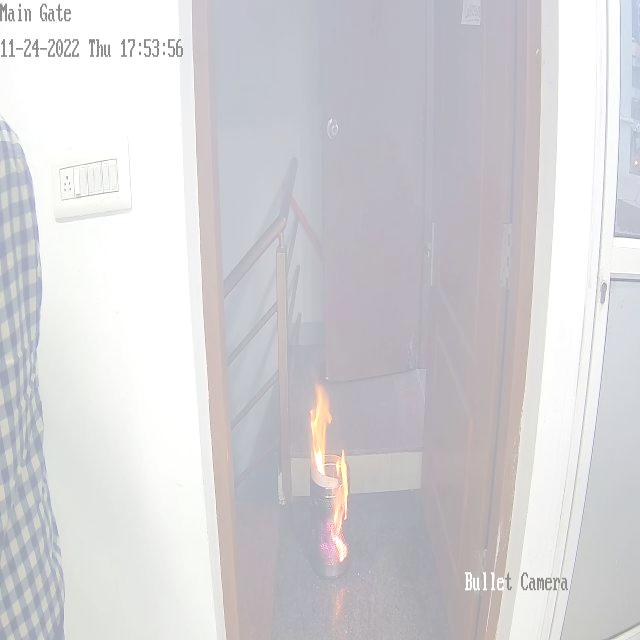fire: (308, 378, 352, 584)
smoke: (215, 11, 304, 144), (334, 8, 409, 110), (350, 148, 407, 273), (327, 299, 392, 378)
